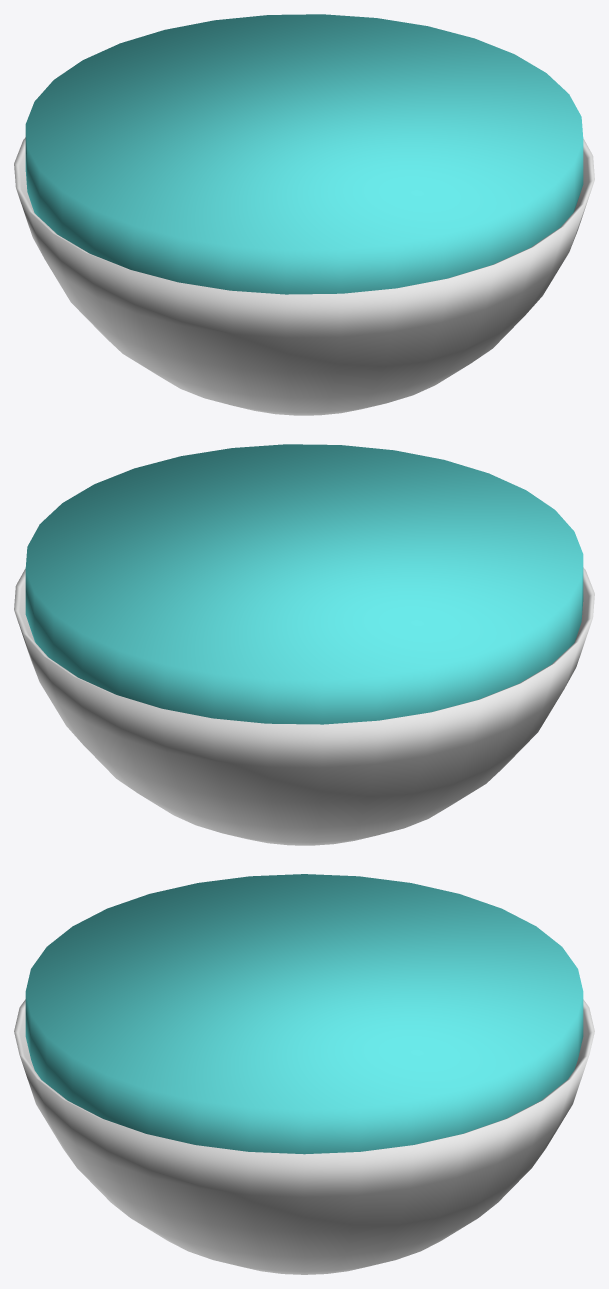
Rendered from boll.fbx.
The picture shows the model from 3 angles, top to bottom: view 1: azimuth 30°, elevation 25°; view 2: azimuth 150°, elevation 25°; view 3: azimuth 270°, elevation 25°; orthographic projection.
Visible parts, largest first — view 1: inner, Sphere; view 2: inner, Sphere; view 3: inner, Sphere.
Part boxes in pixels (left/top/right/bottom): inner: left=25, top=14, right=583, bottom=294; Sphere: left=14, top=137, right=594, bottom=415; inner: left=25, top=444, right=583, bottom=724; Sphere: left=14, top=567, right=594, bottom=845; inner: left=25, top=874, right=583, bottom=1154; Sphere: left=14, top=999, right=594, bottom=1274.
Size of the model in its own units: 200 by 97.2 by 200.
